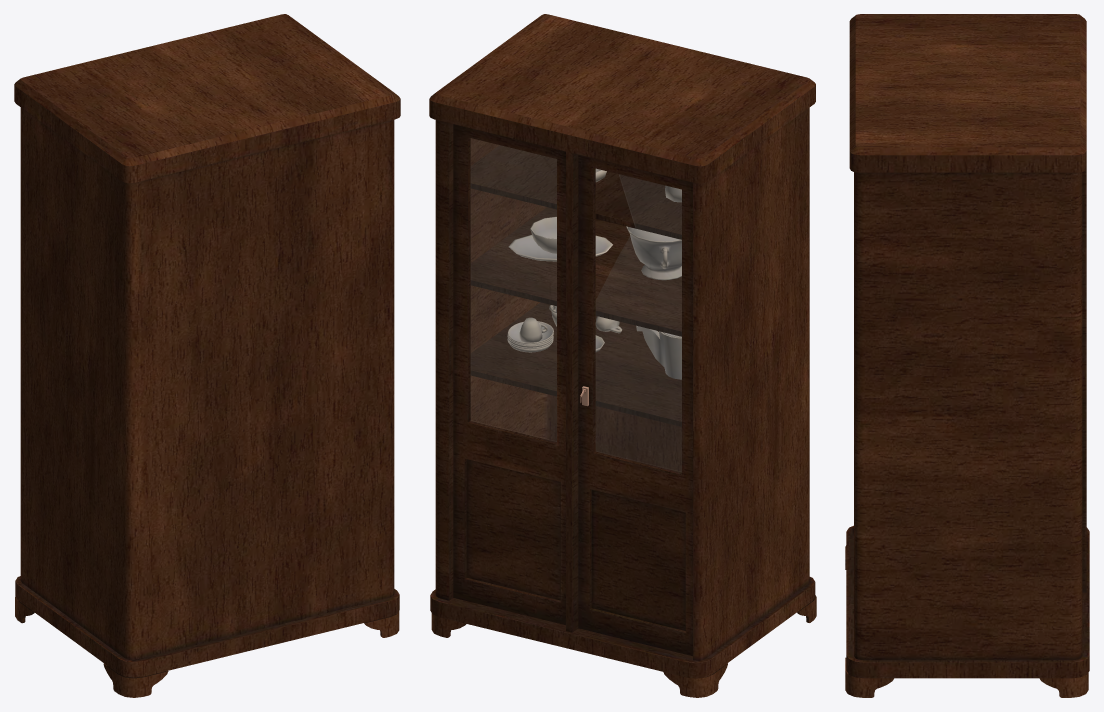
Rendered from sideboard.glb.
3 renders of one model, left to right at view 1: azimuth 30°, elevation 25°; view 2: azimuth 150°, elevation 25°; view 3: azimuth 270°, elevation 25°, orthographic. The views are drawn at different scales.
Visible parts, largest first — view 1: Cube_low_Material.001_0; view 2: Cube_low_Material.001_0, Spoon_Material_0; view 3: Cube_low_Material.001_0.
Part boxes in pixels (box(x1,y1,x2,y2)): Cube_low_Material.001_0: box(14, 14, 400, 697); Cube_low_Material.001_0: box(429, 14, 816, 697); Spoon_Material_0: box(507, 168, 681, 379); Cube_low_Material.001_0: box(845, 14, 1089, 697).
Size of the model in its own units: 1.09 by 2 by 0.8075.
Materials: 2 (2 with a texture image).
